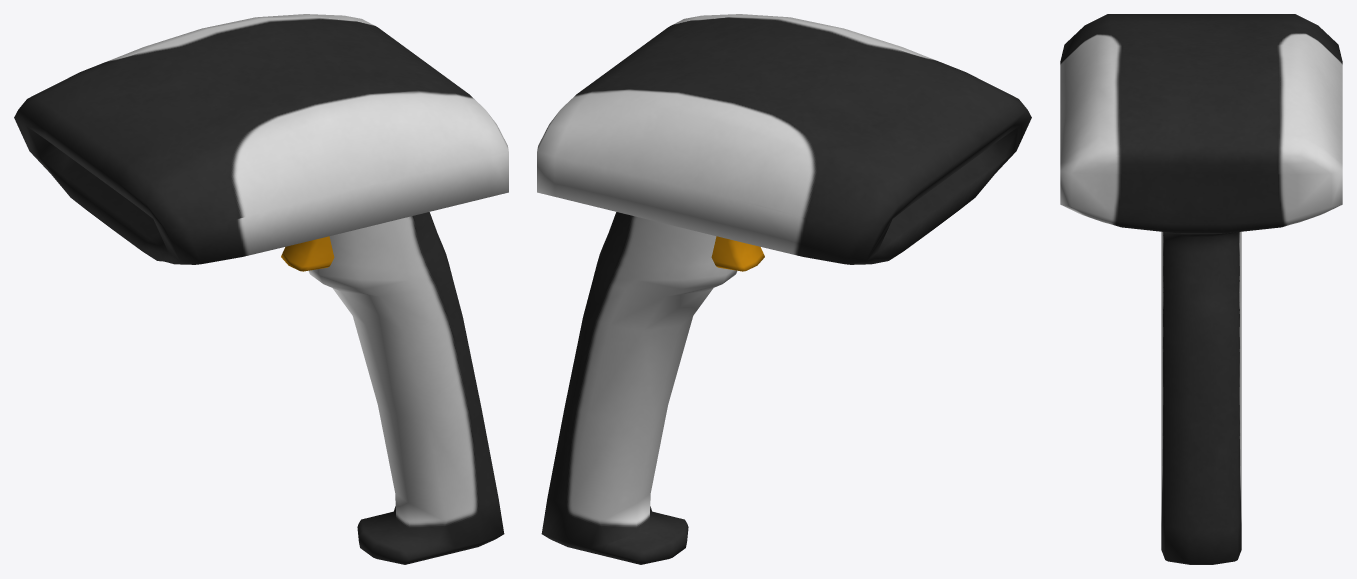
File: client_asset.glb
3 renders of one model, left to right at view 1: azimuth 30°, elevation 25°; view 2: azimuth 150°, elevation 25°; view 3: azimuth 270°, elevation 25°, orthographic. The views are drawn at different scales.
Parts seen in each view (by area): view 1: barCode_reader_low; view 2: barCode_reader_low; view 3: barCode_reader_low.
Part boxes in pixels (x1,y1,x2,y2): barCode_reader_low: (14,14,508,564); barCode_reader_low: (537,14,1031,564); barCode_reader_low: (1060,14,1342,564).
Bounding box in the file's own units: 0.1618 × 0.1936 × 0.1175.
1 material, 1 textured.
